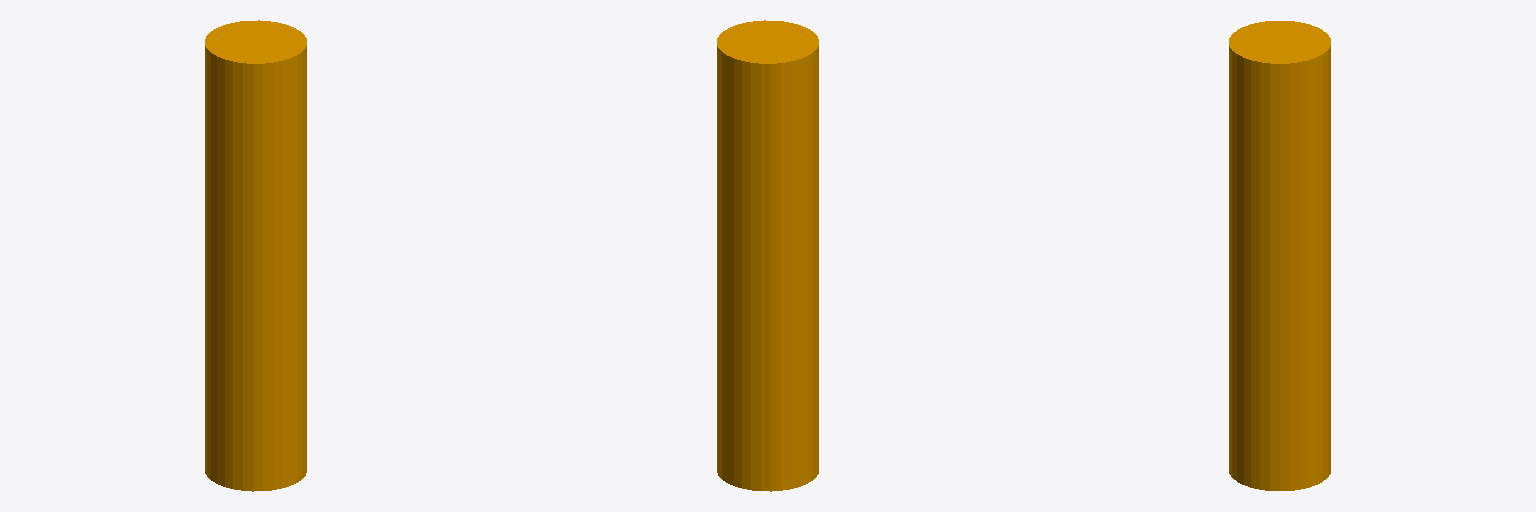
The robot description file, URDF, robot "object":
<robot name="object">
  <link name="object">
    <visual>
      <origin xyz="0 0 0" />
      <geometry>
        <cylinder length="0.27" radius="0.02944" />
      </geometry>
    </visual>

    <collision>
      <origin xyz="0 0 0" />
      <geometry>
        <cylinder length="0.27" radius="0.02944" />
      </geometry>
    </collision>

    <inertial>
      <mass value="0.594206" />
      <inertia ixx="0.0001" ixy="0.0" ixz="0.0" iyy="0.0001" iyz="0.0" izz="0.0001" />
    </inertial>

  <!-- <limit effort="200000" lower="-100000.0" upper="100000.0" velocity="100000.0"/> --> 
   
  </link>
</robot>

--- Facts derived from the render (not from the file) ---
3 views of the same robot in one strip: view 1: azimuth 30°, elevation 25°; view 2: azimuth 150°, elevation 25°; view 3: azimuth 270°, elevation 25° (orthographic).
Robot: object — 1 links, 0 joints (none); root link object; default pose: every joint at zero.
Visible links, largest first — view 1: object; view 2: object; view 3: object.
Link boxes in pixels (x1,y1,x2,y2): object: [205, 20, 306, 491]; object: [717, 20, 818, 491]; object: [1229, 21, 1330, 490].
Size in the robot's own frame: 0.0589 by 0.0589 by 0.27 metres.
Geometry: primitives only (box / cylinder / sphere), no mesh files.